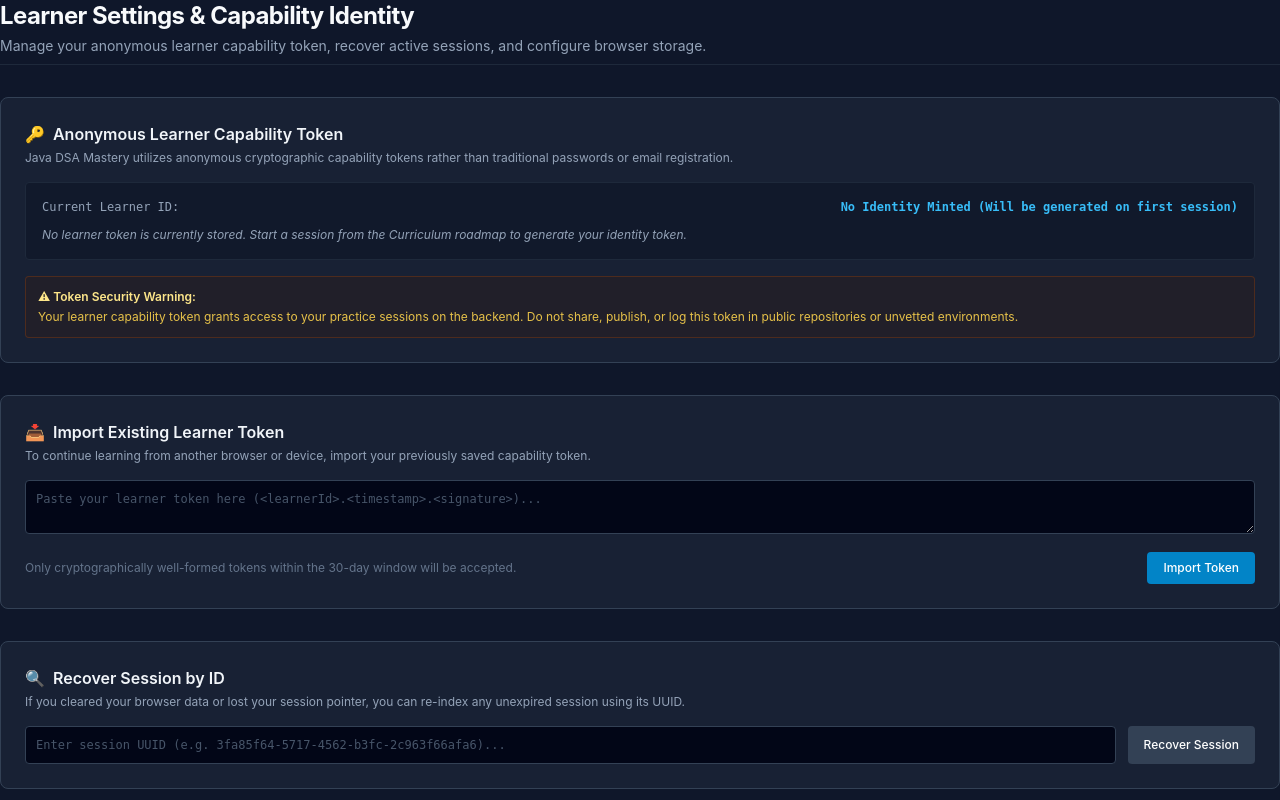
Scenario: SettingsView Component › explains that learner token is missing when attempting session recovery without stored token
In the field with test id "input-recovery-session-id": (570, 745) top-left (25, 726), bottom-right (1116, 764), type "11111111-2222-3333-4444-555555555555"
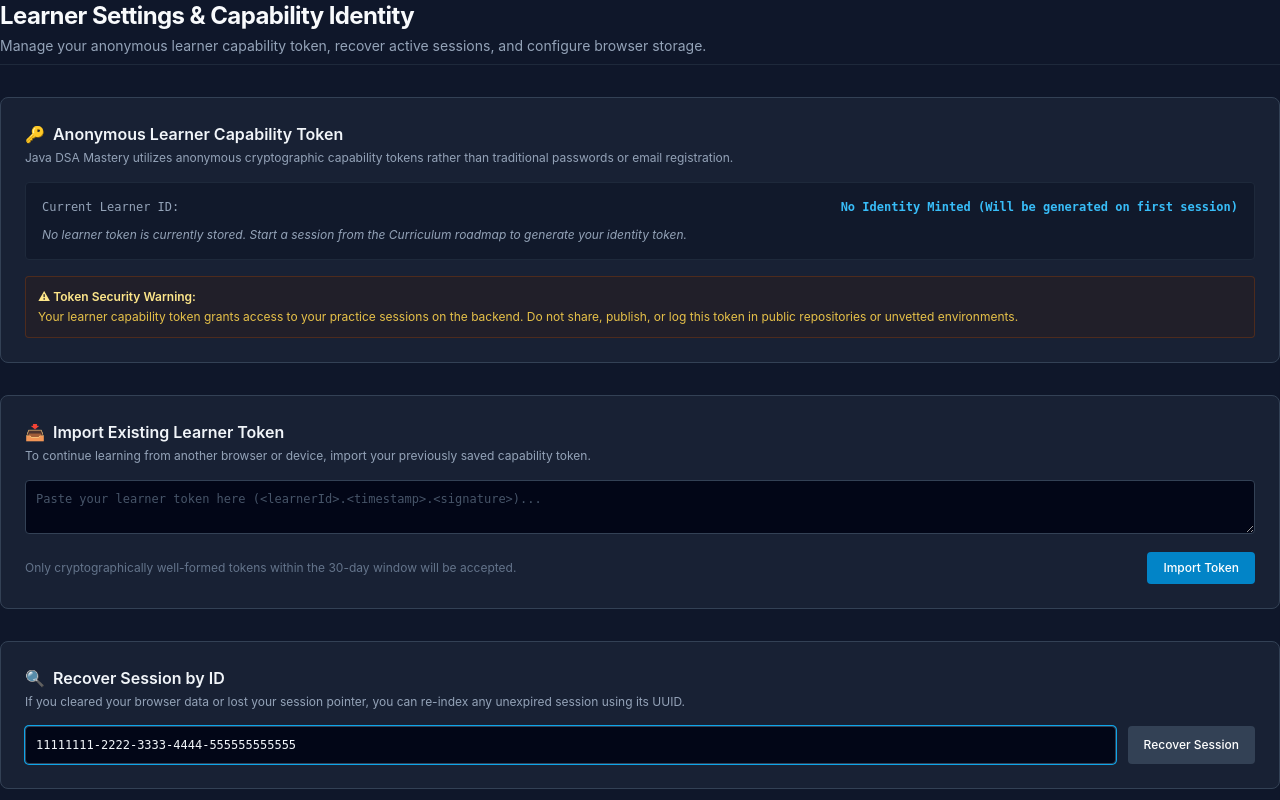
Click the button with test id "btn-recover-session": (1191, 745) top-left (1128, 726), bottom-right (1255, 764)
(page scrolled)
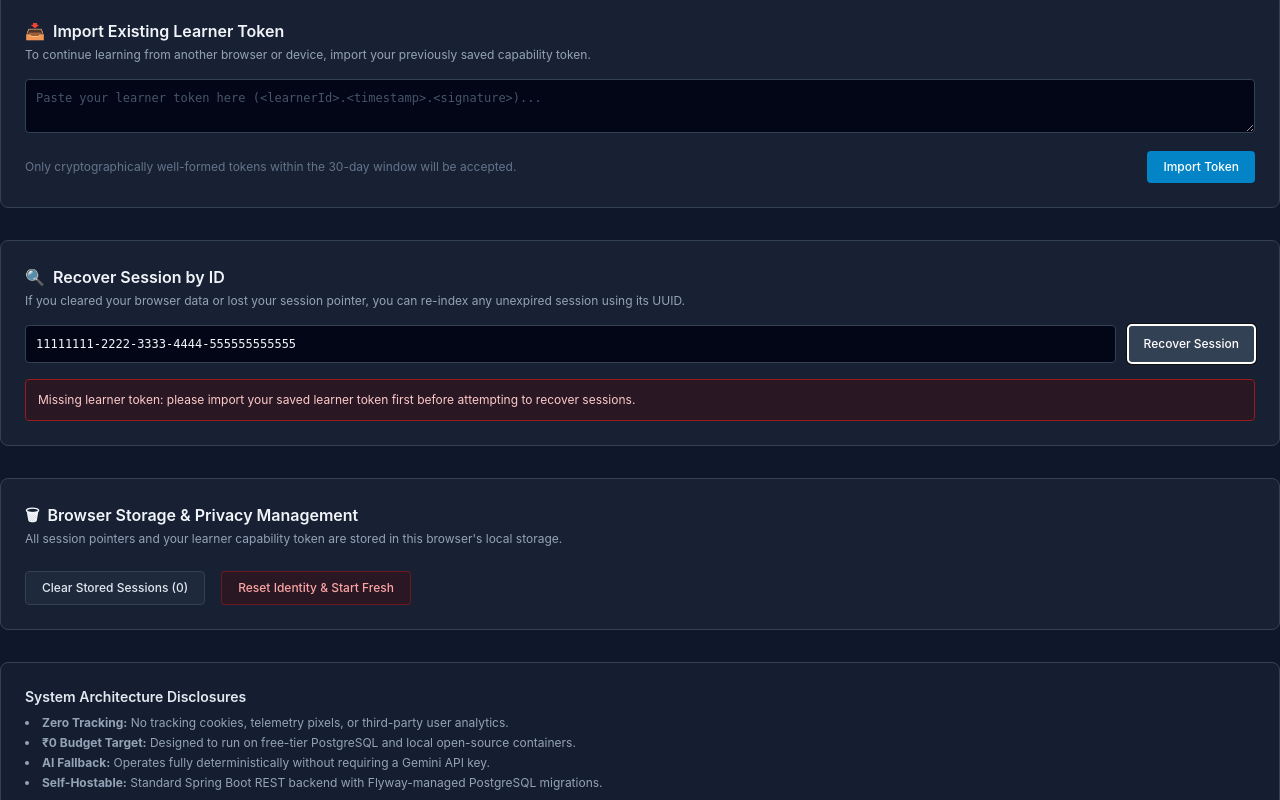
Expected: the text "Missing learner token: please import your saved learner token first before attempting to recover sessions." is shown, top-left (38, 392), bottom-right (635, 407)
